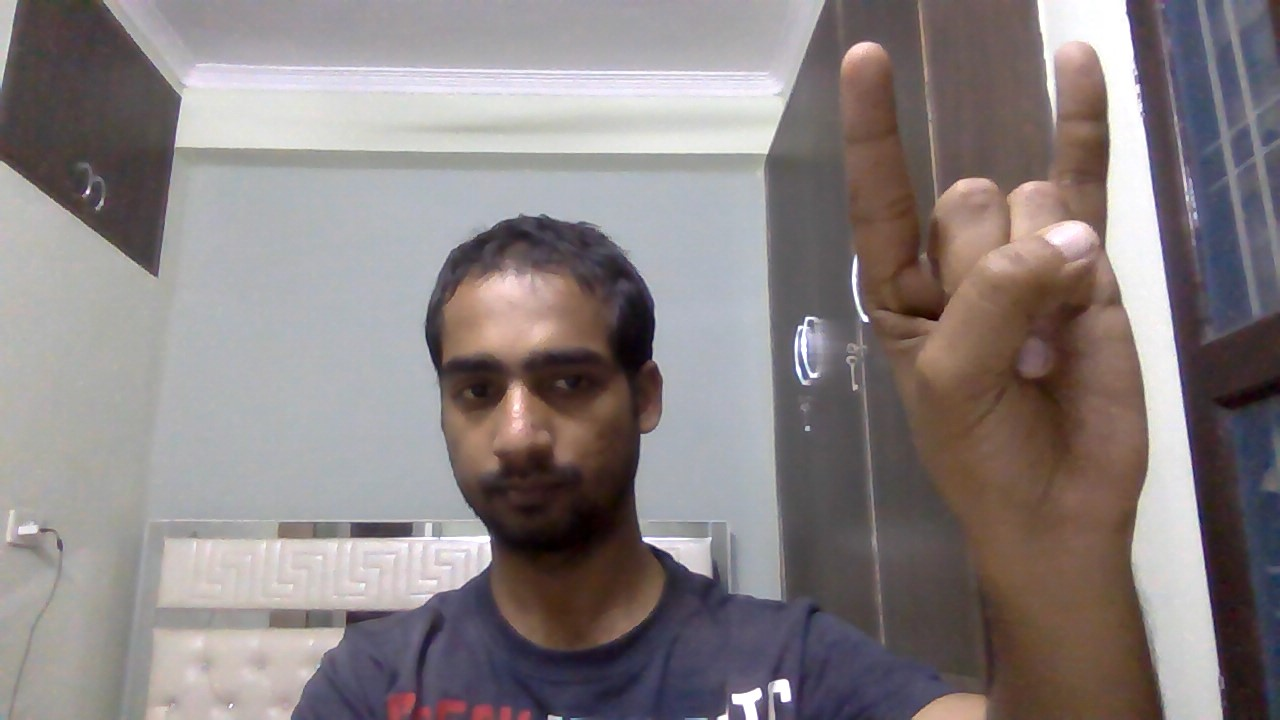Select All: (818, 35, 1166, 557)
